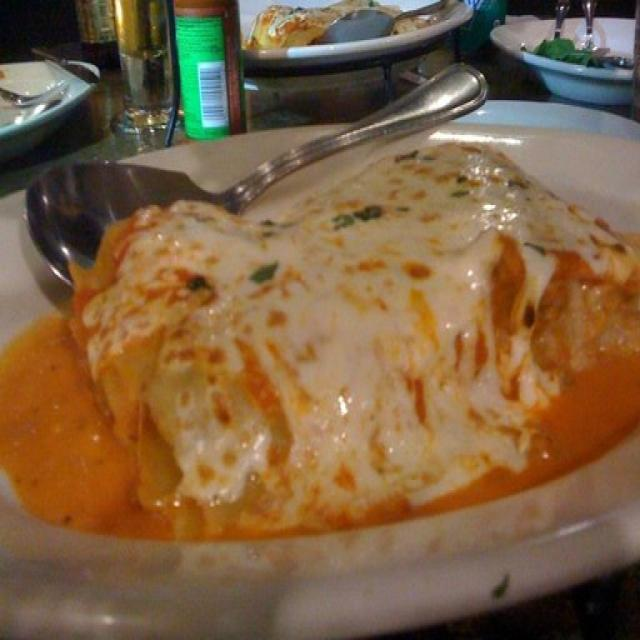Lasagna: (47, 136, 640, 525)
